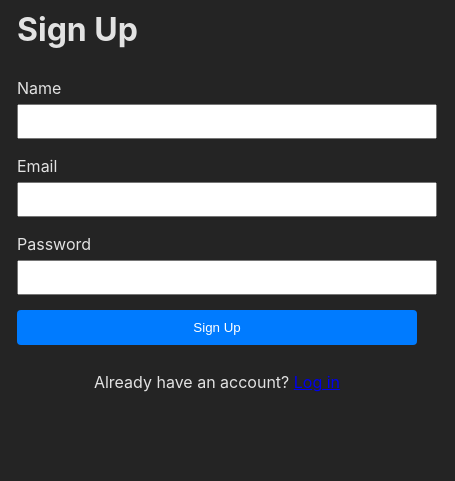
SignupPage › should display validation errors for weak password
The width and height of the screenshot is (455, 481).
Step 1. Type "weak" into the password field labelled "Password" → (227, 277), box [17, 260, 437, 295]
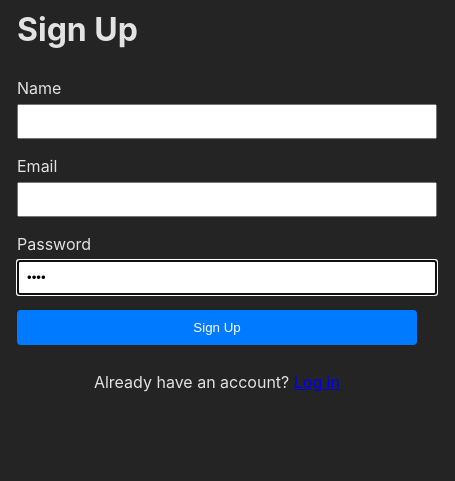
Step 2. Click the button "Sign Up" → (217, 327), box [17, 310, 417, 345]
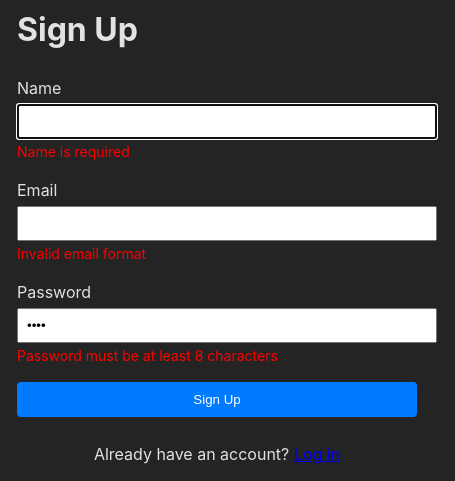
Now the text "Password must be at least 8 characters" is shown, box [17, 347, 278, 364]
